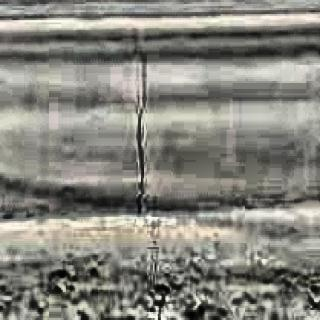crack: (135, 33, 155, 218)
